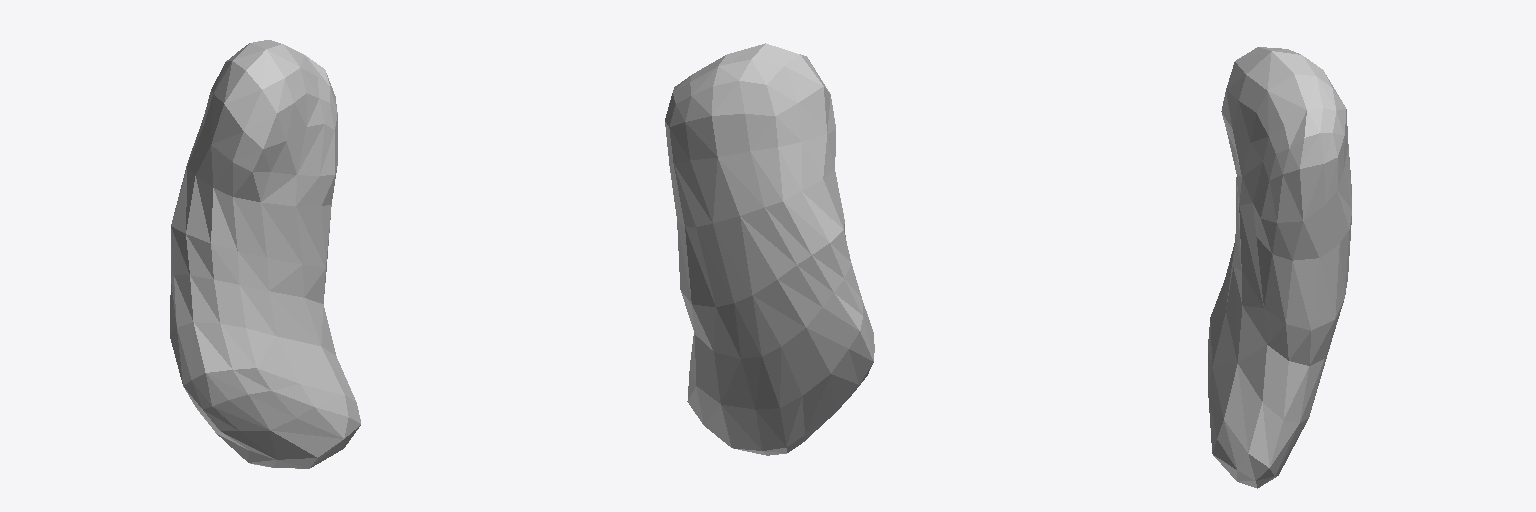
Rendered from rock4.obj.
The picture shows the model from 3 angles: view 1: azimuth 30°, elevation 25°; view 2: azimuth 150°, elevation 25°; view 3: azimuth 270°, elevation 25°; orthographic projection.
Visible parts, largest first — view 1: [Imported]_obj7_obj7; view 2: [Imported]_obj7_obj7; view 3: [Imported]_obj7_obj7.
Part boxes in pixels (x1,y1,x2,y2): [Imported]_obj7_obj7: (170,40,360,468); [Imported]_obj7_obj7: (665,43,874,455); [Imported]_obj7_obj7: (1208,47,1351,488).
Bounding box in the file's own units: 11.82 × 26.29 × 8.29.